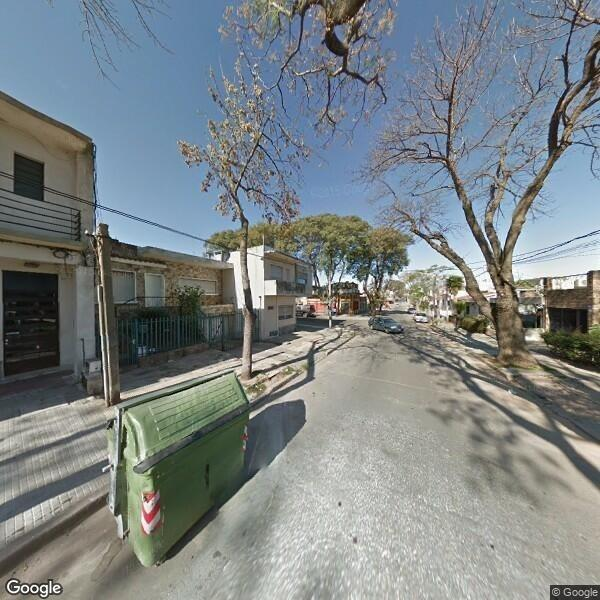Trash: (108, 370, 253, 570)
